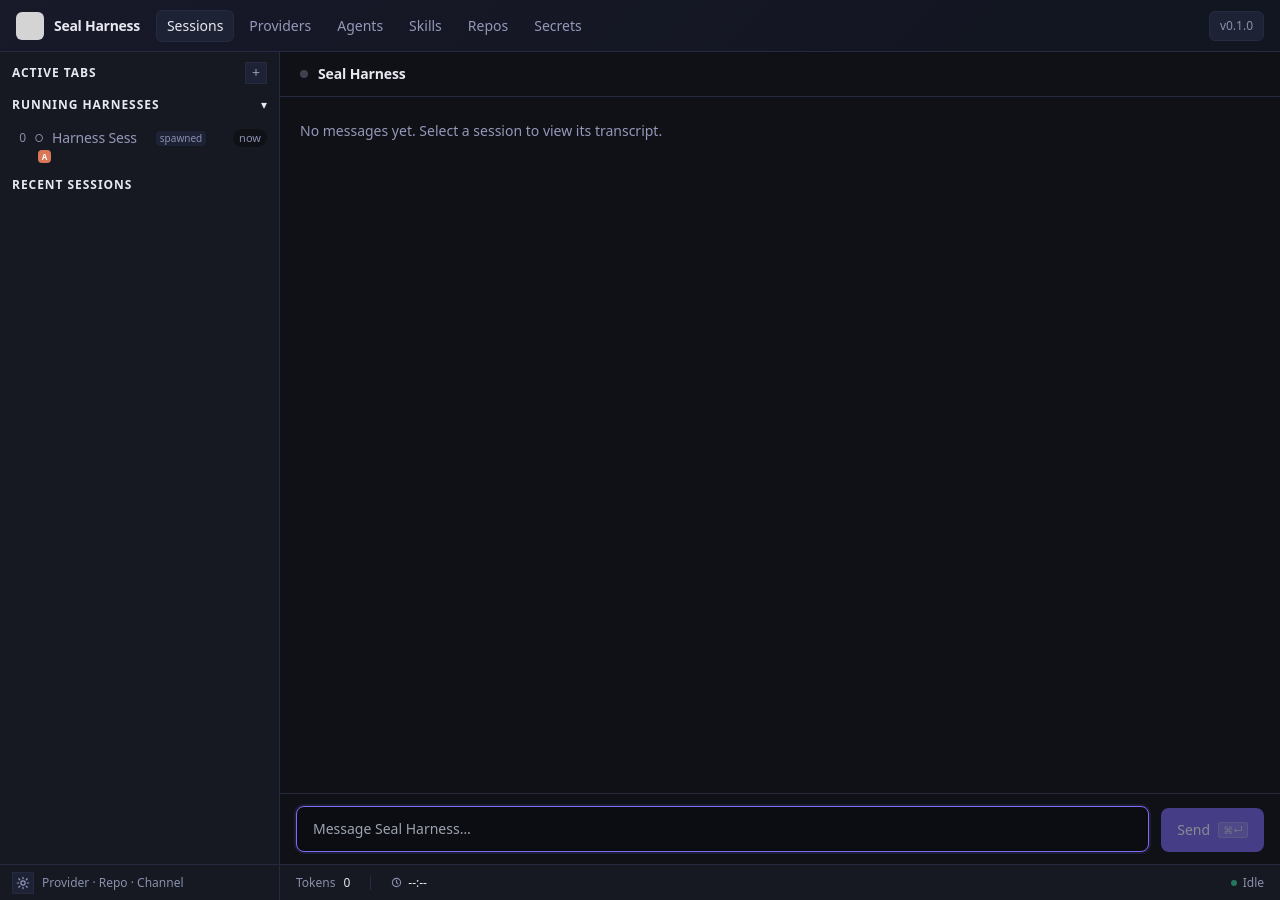
Scenario: App — harness tab › selecting a harness tab shows the HarnessControls pane
Click the text "Harness Sess": (94,138) [52,128,137,148]
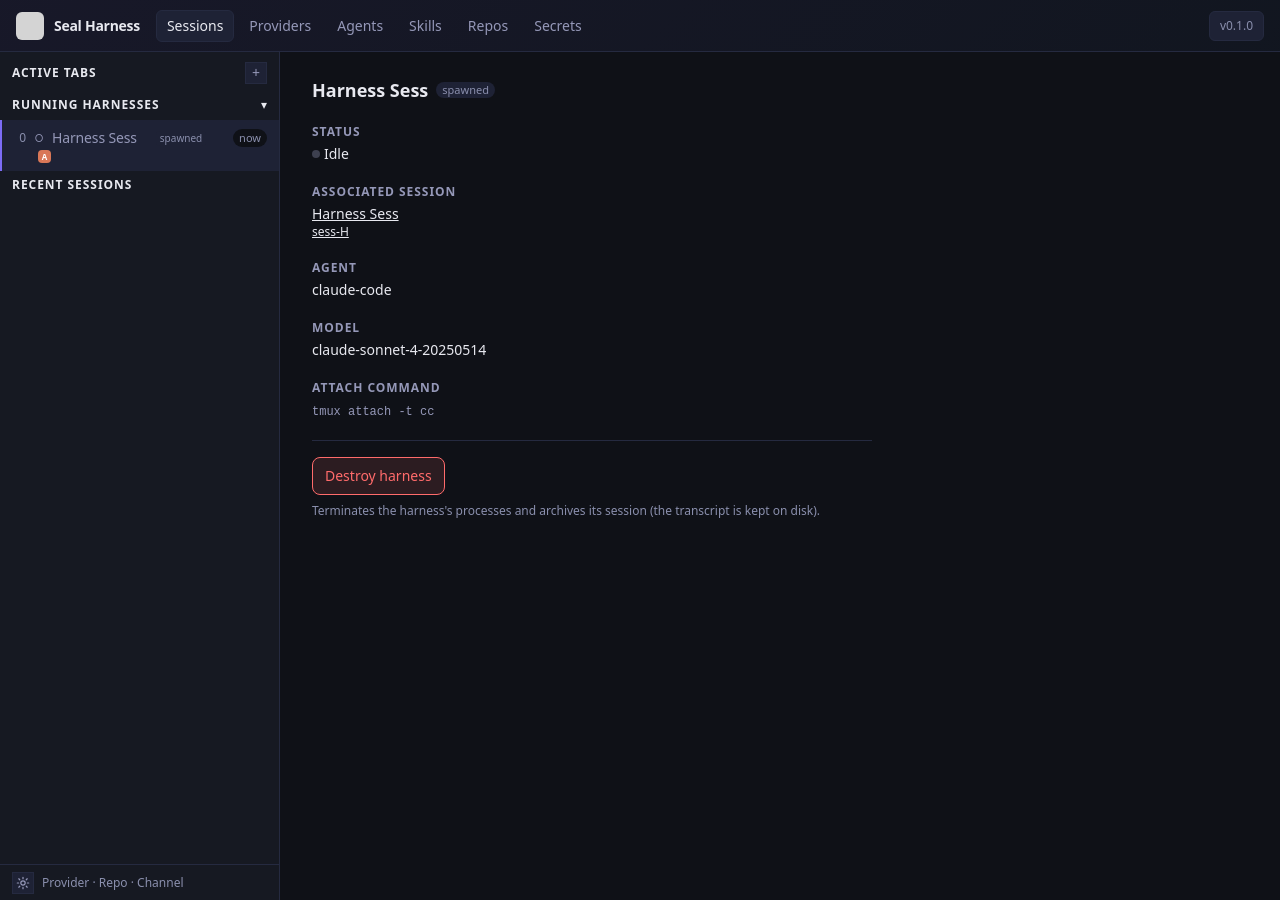
Check: the button "Destroy harness" is shown, box [312,457,445,495]
Check: the text "Status" is shown, box [312,123,361,140]
